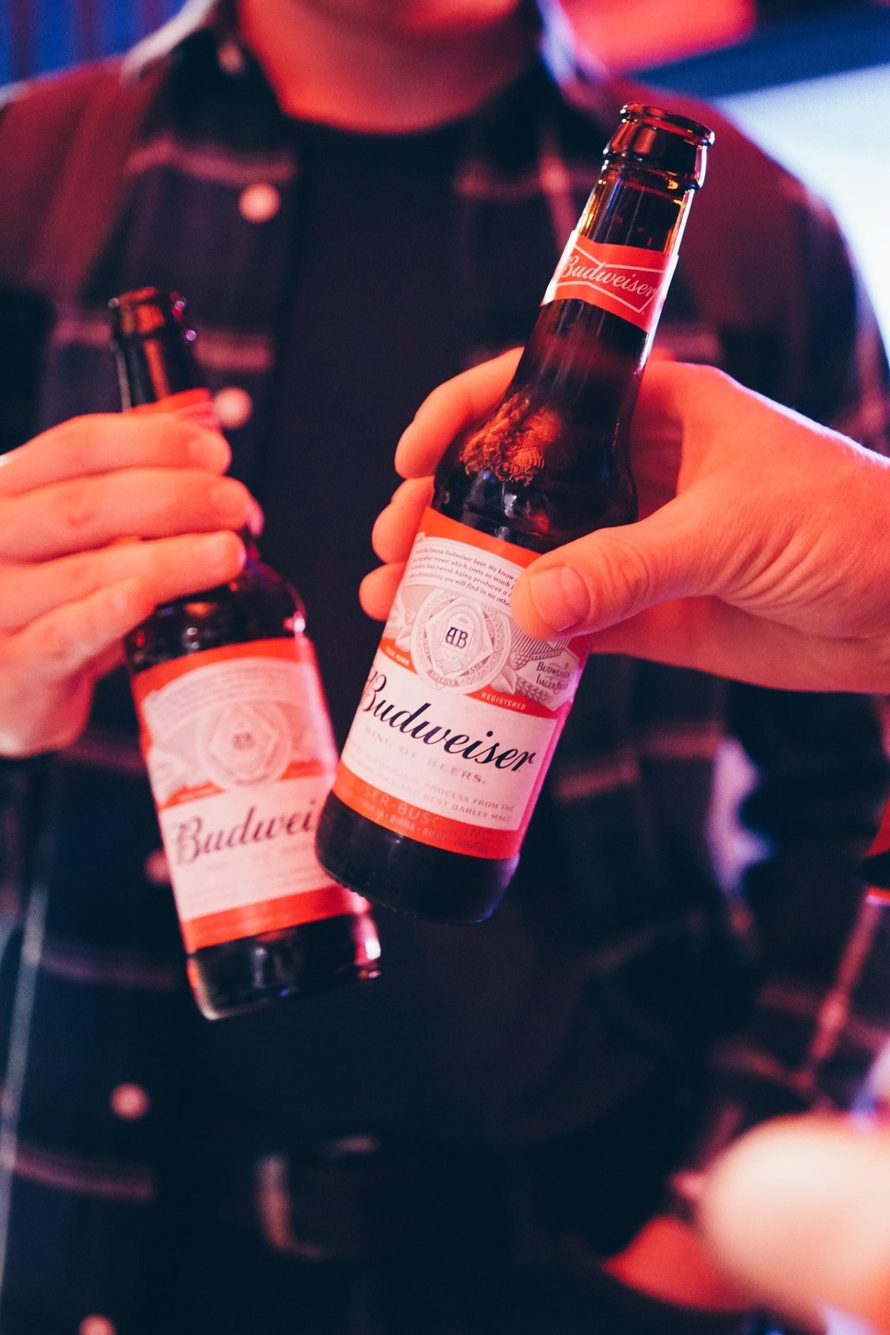bottle-glass: (303, 92, 726, 943), (94, 275, 391, 1038)
